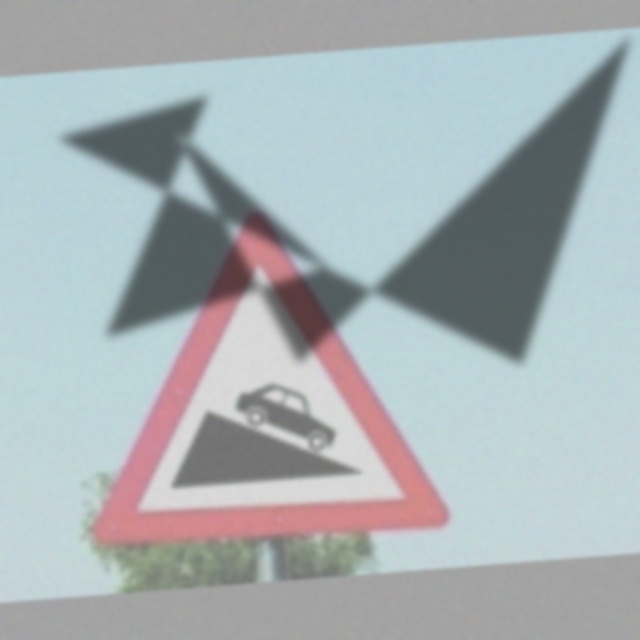Steep_Descent: (74, 204, 445, 549)
